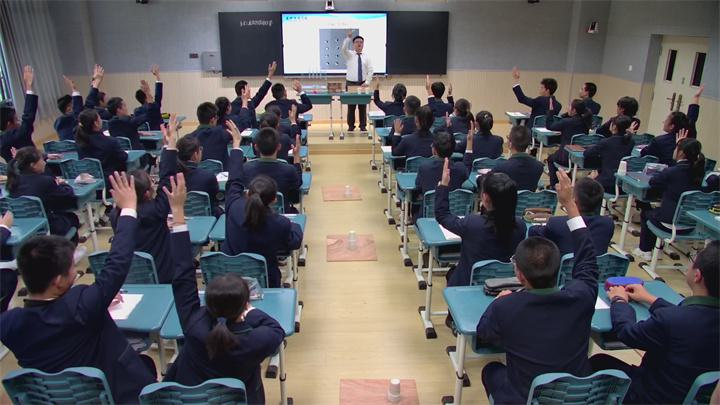hands-up: (10, 166, 138, 347), (485, 171, 597, 369), (167, 175, 268, 369), (437, 163, 516, 245), (221, 117, 290, 186), (414, 120, 477, 185), (1, 66, 45, 146), (49, 60, 108, 108), (655, 128, 698, 193), (224, 66, 276, 119), (654, 88, 702, 141), (510, 73, 562, 112), (590, 117, 641, 156), (133, 64, 163, 120), (210, 84, 250, 123), (545, 101, 590, 133), (424, 75, 456, 117), (273, 81, 314, 112), (368, 77, 403, 108)
listen: (611, 240, 720, 359)
